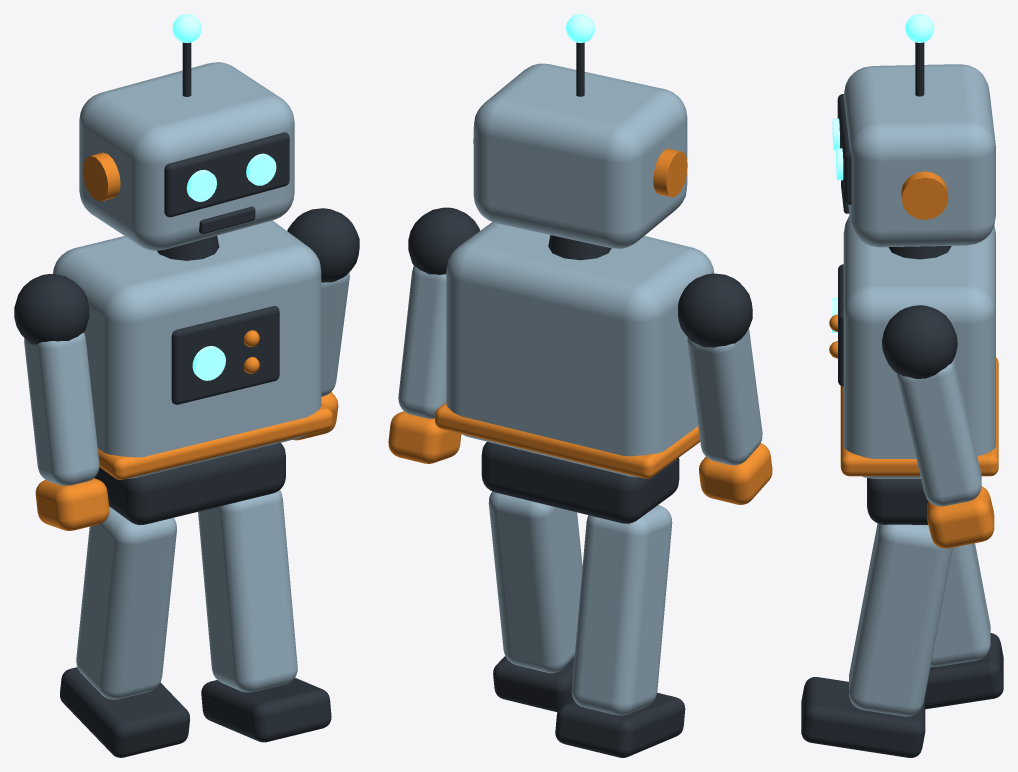
Rendered from robot.glb.
The picture shows the model from 3 angles, left to right: view 1: azimuth 30°, elevation 25°; view 2: azimuth 150°, elevation 25°; view 3: azimuth 270°, elevation 25°; orthographic projection.
Parts seen in each view (by area): view 1: Robot; view 2: Robot; view 3: Robot.
Part boxes in pixels (box(x1,y1,x2,y2)): Robot: box(14, 14, 359, 757); Robot: box(388, 14, 772, 757); Robot: box(801, 14, 1003, 757).
Size of the model in its own units: 1.32 by 2.67 by 0.6929.
